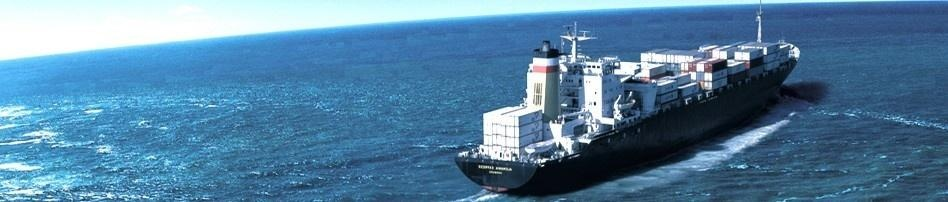Cargoship: (458, 10, 814, 197)
